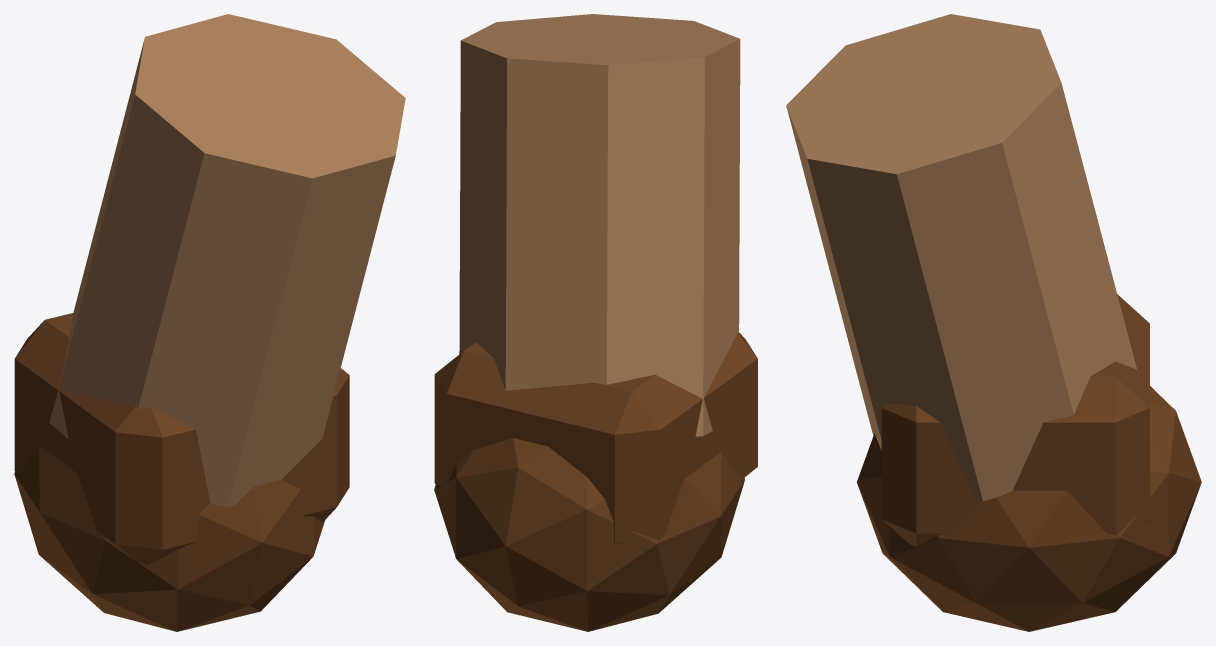
Rendered from ForearmLeft.glb.
3 renders of one model, left to right at view 1: azimuth 30°, elevation 25°; view 2: azimuth 150°, elevation 25°; view 3: azimuth 270°, elevation 25°, orthographic. The views are drawn at different scales.
Parts seen in each view (by area): view 1: Sculpture; view 2: Sculpture; view 3: Sculpture.
Boxes of the visible parts, bbox=[...] form: Sculpture: bbox=[14, 14, 405, 631]; Sculpture: bbox=[434, 14, 757, 631]; Sculpture: bbox=[786, 14, 1201, 631].
Size of the model in its own units: 0.1786 by 0.3316 by 0.2168.
